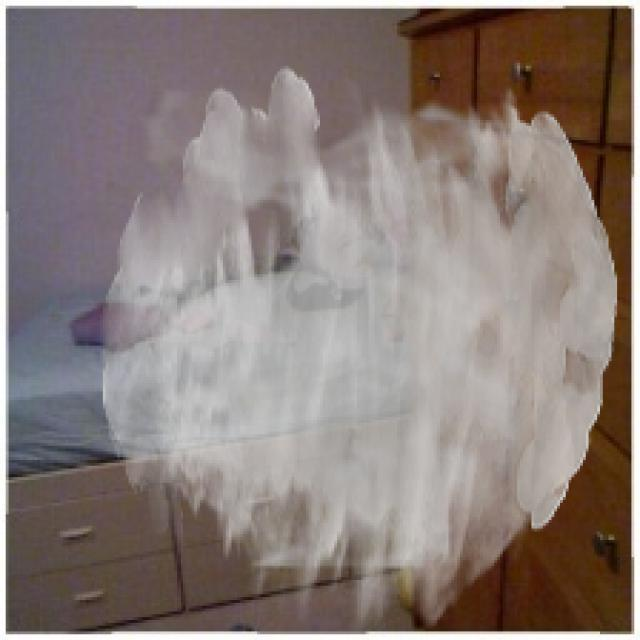Smoke: (100, 66, 617, 634)
